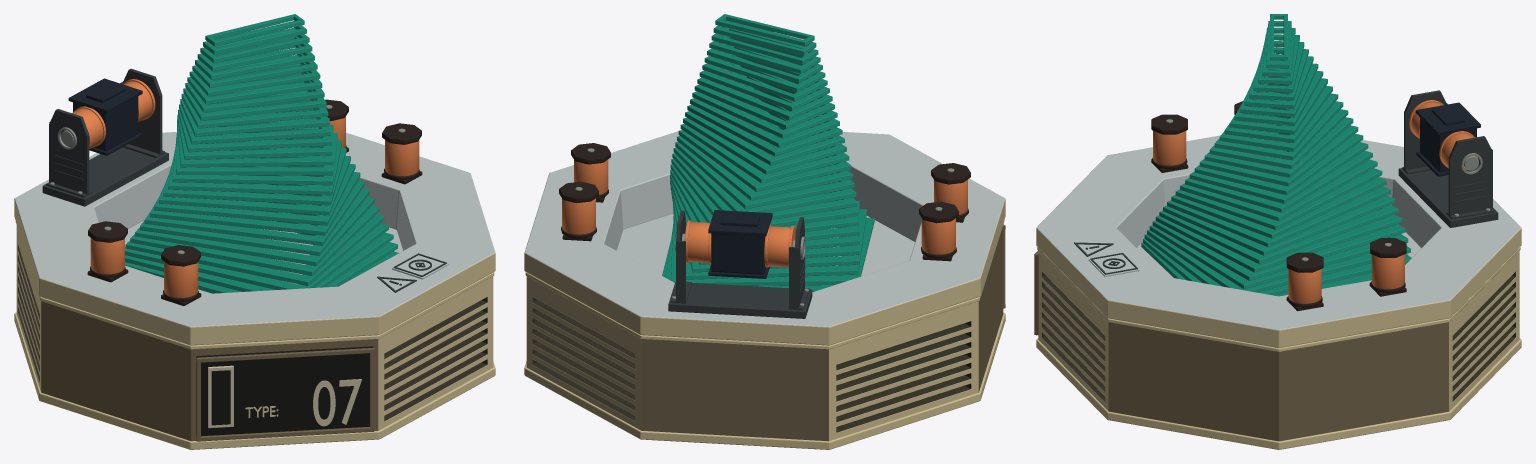
File: CrystallineElectronicUnit_Approved.fbx
3 views of the same model, side by side, from view 1: azimuth 30°, elevation 25°; view 2: azimuth 150°, elevation 25°; view 3: azimuth 270°, elevation 25° (orthographic). The views are drawn at different scales.
Parts seen in each view (by area): view 1: CEU_Approved_Housing, CEU_Approved; view 2: CEU_Approved_Housing, CEU_Approved; view 3: CEU_Approved_Housing, CEU_Approved.
Boxes of the visible parts, left/top/right/bottom form: CEU_Approved_Housing: left=14, top=68, right=495, bottom=449; CEU_Approved: left=125, top=14, right=398, bottom=293; CEU_Approved_Housing: left=524, top=131, right=1005, bottom=449; CEU_Approved: left=662, top=14, right=874, bottom=291; CEU_Approved_Housing: left=1034, top=90, right=1521, bottom=449; CEU_Approved: left=1141, top=14, right=1411, bottom=296.
Bounding box in the file's own units: 335 × 238 × 336.
